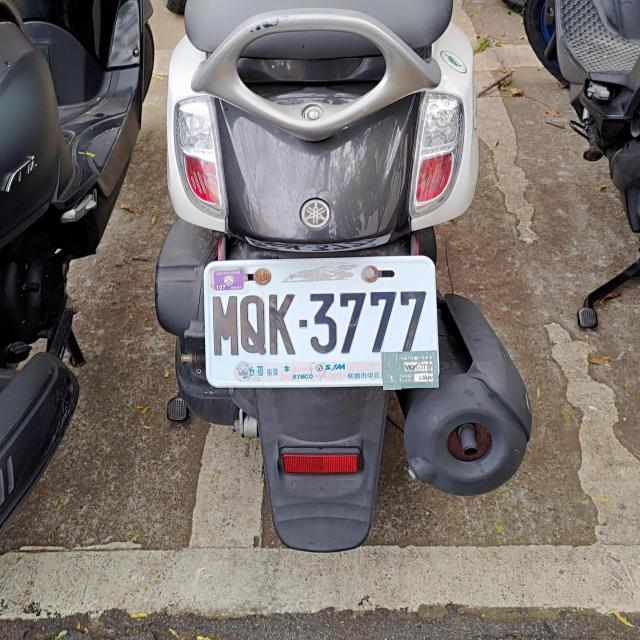W: (200, 251, 434, 387)
